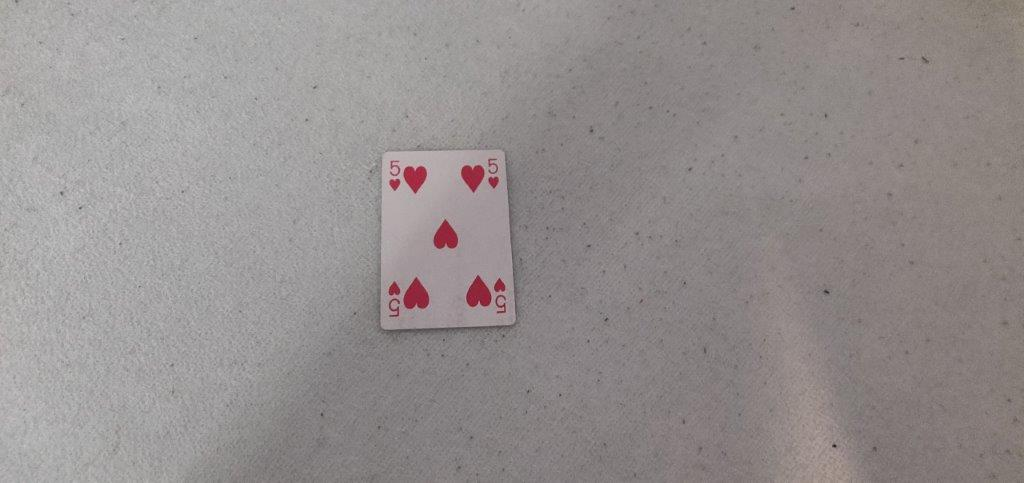5H: (386, 158, 406, 196), (485, 153, 504, 192)
